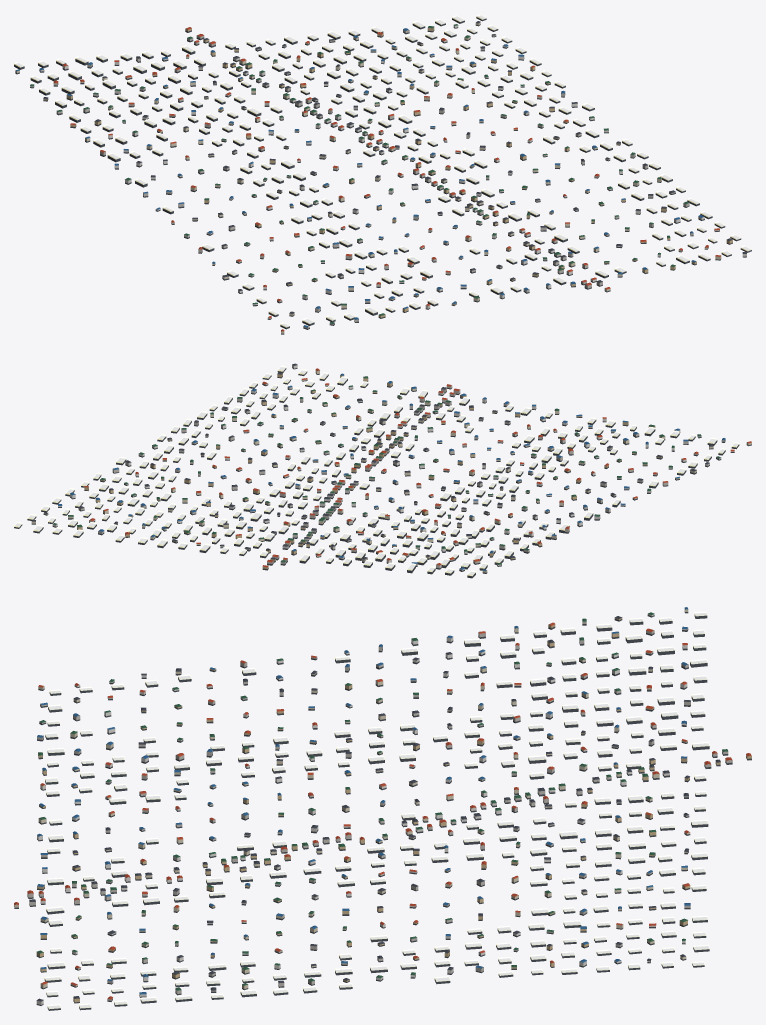
File: buildings_T_E01_N05.glb
3 renders of one model, top to bottom at view 1: azimuth 30°, elevation 25°; view 2: azimuth 150°, elevation 25°; view 3: azimuth 270°, elevation 25°, orthographic. The views are drawn at different scales.
Parts seen in each view (by area): view 1: T_E01_N05_slope_seating_foundations, T_E01_N05_roofs_agri_greenhouse_arch, T_E01_N05_walls_wall_pastel_sand_gray, T_E01_N05_walls_wall_french_ochre_villa, T_E01_N05_walls_wall_dalat_cream_stucco, T_E01_N05_walls_wall_modern_warm_white, T_E01_N05_roofs_roof_slate_French_villa_hip, T_E01_N05_roofs_roof_pine_green_hip, T_E01_N05_roofs_roof_terracotta_gable, T_E01_N05_roofs_roof_highland_blue_gable; view 2: T_E01_N05_slope_seating_foundations, T_E01_N05_roofs_agri_greenhouse_arch, T_E01_N05_walls_wall_pastel_sand_gray, T_E01_N05_walls_wall_dalat_cream_stucco, T_E01_N05_walls_wall_modern_warm_white, T_E01_N05_walls_wall_french_ochre_villa, T_E01_N05_roofs_roof_slate_French_villa_hip, T_E01_N05_roofs_roof_terracotta_gable, T_E01_N05_roofs_roof_pine_green_hip, T_E01_N05_roofs_roof_highland_blue_gable; view 3: T_E01_N05_slope_seating_foundations, T_E01_N05_roofs_agri_greenhouse_arch, T_E01_N05_walls_wall_pastel_sand_gray, T_E01_N05_walls_wall_dalat_cream_stucco, T_E01_N05_walls_wall_modern_warm_white, T_E01_N05_walls_wall_french_ochre_villa, T_E01_N05_roofs_roof_slate_French_villa_hip, T_E01_N05_roofs_roof_terracotta_gable, T_E01_N05_roofs_roof_pine_green_hip, T_E01_N05_roofs_roof_highland_blue_gable.
Boxes of the visible parts, x1=… form: T_E01_N05_slope_seating_foundations: x1=14, y1=16, x2=751, y2=334; T_E01_N05_roofs_agri_greenhouse_arch: x1=14, y1=14, x2=751, y2=327; T_E01_N05_walls_wall_pastel_sand_gray: x1=53, y1=29, x2=719, y2=324; T_E01_N05_walls_wall_french_ochre_villa: x1=43, y1=27, x2=732, y2=317; T_E01_N05_walls_wall_dalat_cream_stucco: x1=15, y1=22, x2=721, y2=333; T_E01_N05_walls_wall_modern_warm_white: x1=30, y1=25, x2=746, y2=319; T_E01_N05_roofs_roof_slate_French_villa_hip: x1=43, y1=21, x2=746, y2=313; T_E01_N05_roofs_roof_pine_green_hip: x1=30, y1=24, x2=689, y2=323; T_E01_N05_roofs_roof_terracotta_gable: x1=53, y1=27, x2=720, y2=331; T_E01_N05_roofs_roof_highland_blue_gable: x1=16, y1=28, x2=704, y2=327; T_E01_N05_slope_seating_foundations: x1=14, y1=367, x2=751, y2=578; T_E01_N05_roofs_agri_greenhouse_arch: x1=14, y1=365, x2=739, y2=576; T_E01_N05_walls_wall_pastel_sand_gray: x1=78, y1=383, x2=701, y2=565; T_E01_N05_walls_wall_dalat_cream_stucco: x1=31, y1=370, x2=751, y2=572; T_E01_N05_walls_wall_modern_warm_white: x1=52, y1=365, x2=734, y2=570; T_E01_N05_walls_wall_french_ochre_villa: x1=77, y1=373, x2=679, y2=568; T_E01_N05_roofs_roof_slate_French_villa_hip: x1=31, y1=363, x2=713, y2=559; T_E01_N05_roofs_roof_terracotta_gable: x1=84, y1=368, x2=751, y2=567; T_E01_N05_roofs_roof_pine_green_hip: x1=53, y1=376, x2=721, y2=564; T_E01_N05_roofs_roof_highland_blue_gable: x1=58, y1=373, x2=725, y2=570; T_E01_N05_slope_seating_foundations: x1=14, y1=611, x2=751, y2=1010; T_E01_N05_roofs_agri_greenhouse_arch: x1=44, y1=611, x2=709, y2=1009; T_E01_N05_walls_wall_pastel_sand_gray: x1=27, y1=621, x2=732, y2=1000; T_E01_N05_walls_wall_dalat_cream_stucco: x1=14, y1=609, x2=690, y2=989; T_E01_N05_walls_wall_modern_warm_white: x1=36, y1=614, x2=689, y2=1004; T_E01_N05_walls_wall_french_ochre_villa: x1=36, y1=618, x2=751, y2=1002; T_E01_N05_roofs_roof_slate_French_villa_hip: x1=29, y1=616, x2=720, y2=1001; T_E01_N05_roofs_roof_terracotta_gable: x1=14, y1=622, x2=751, y2=999; T_E01_N05_roofs_roof_pine_green_hip: x1=36, y1=612, x2=727, y2=990; T_E01_N05_roofs_roof_highland_blue_gable: x1=37, y1=607, x2=690, y2=994.
Size of the model in its own units: 1738 by 359 by 1919.
